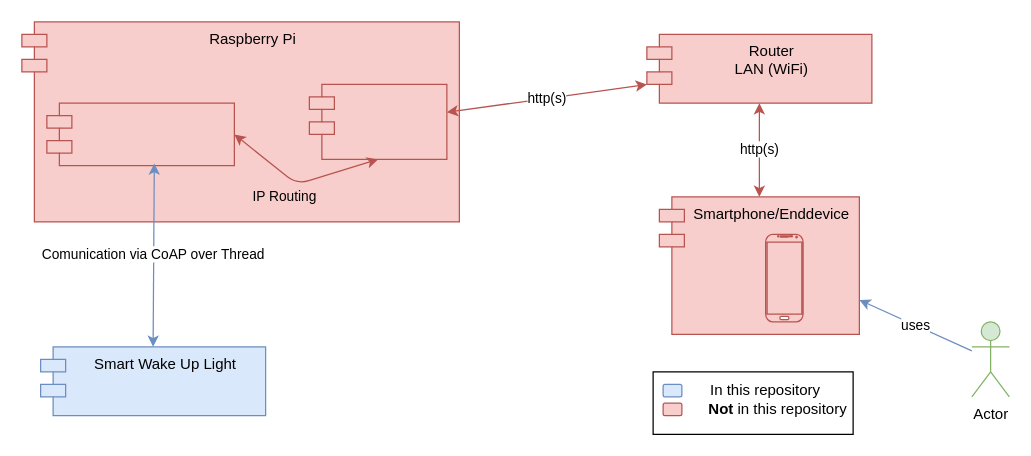
This 1031x456 diagram has some shape labels left out. The box of each missing label's shape, as (x1, y1, x2, y2) in pixels:
Flask Server: (308, 83, 447, 159)
Thread Border-Router: (46, 102, 234, 166)
